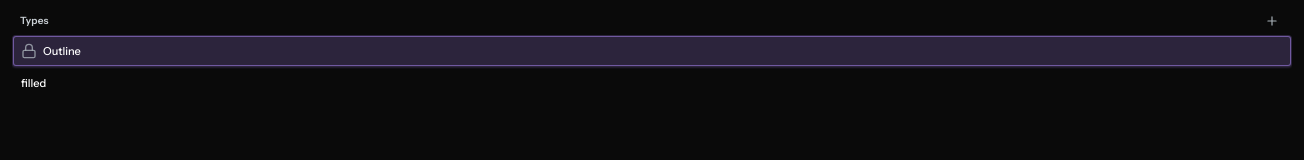
EditorShell TypesSection inline rename (characterization) › Default type — Enter commits via onSetTypeName, NOT onRenameType
Double-click the button "Outline".
double_click(62, 51)  # box x1=12 y1=35 x2=1292 y2=67
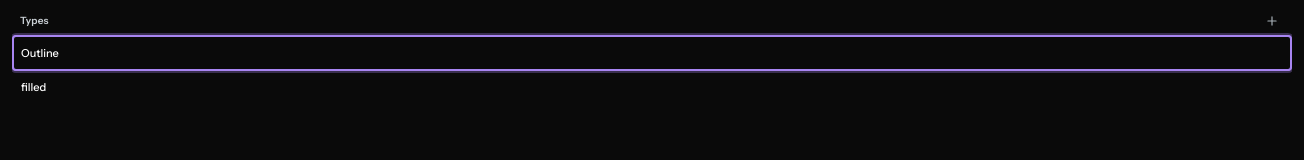
Replace the text in the field with class "inline-rename-input" with "Stroke" at (652, 53), box x1=12 y1=35 x2=1292 y2=71
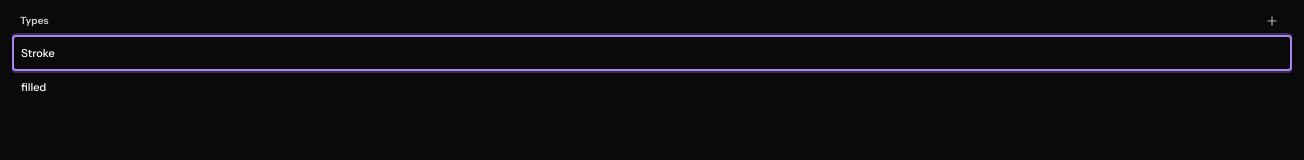
Press Enter in the field with class "inline-rename-input", box x1=12 y1=35 x2=1292 y2=71
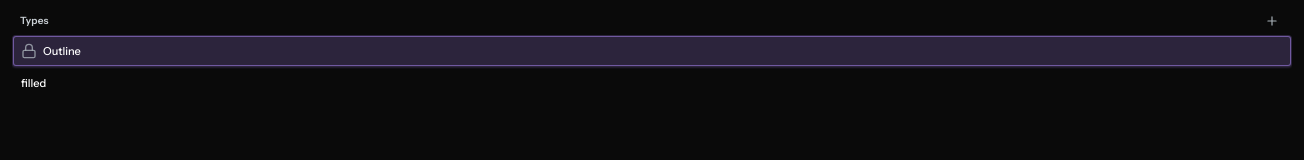
Check: the field with class "inline-rename-input" is gone
